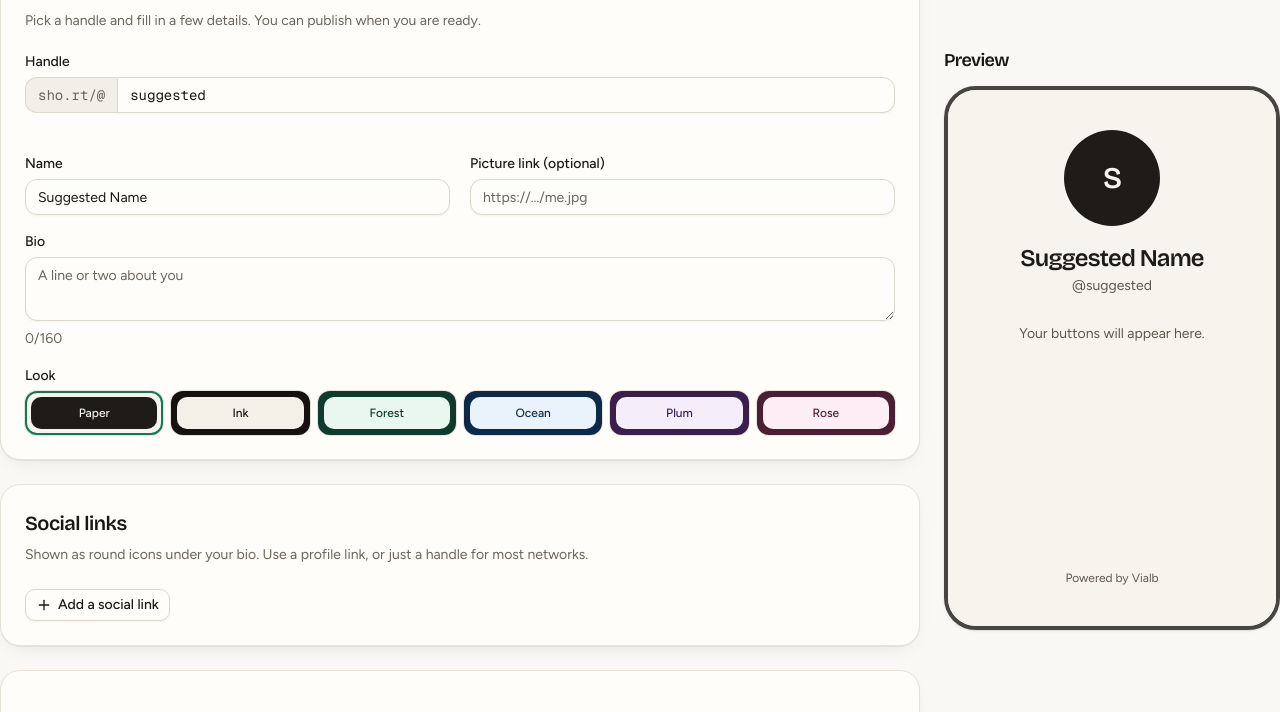
Scenario: BioEditor before a page exists › explains a bad handle instead of sending it
Replace the text in the field labelled "Handle" with "admin": (506, 95) [117,77,895,113]
(page scrolled)
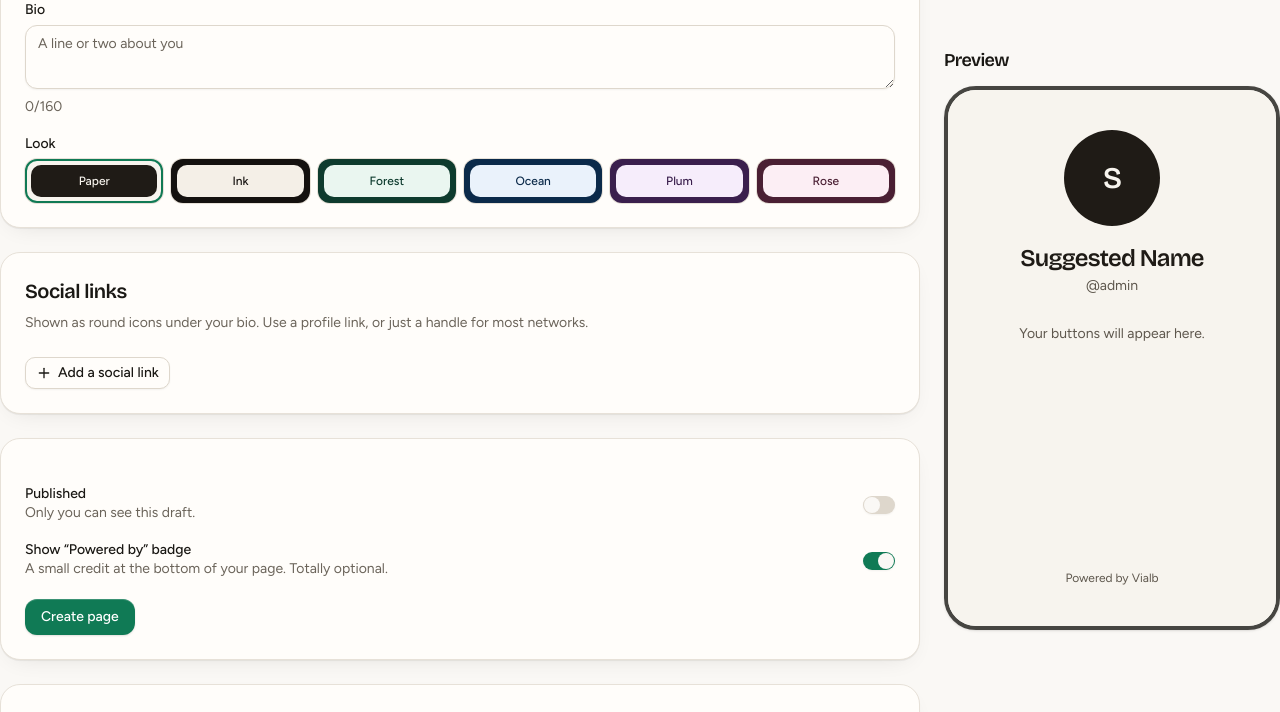
Click the button with test id "bio-save": (80, 617) [25,599,135,635]
(page scrolled)
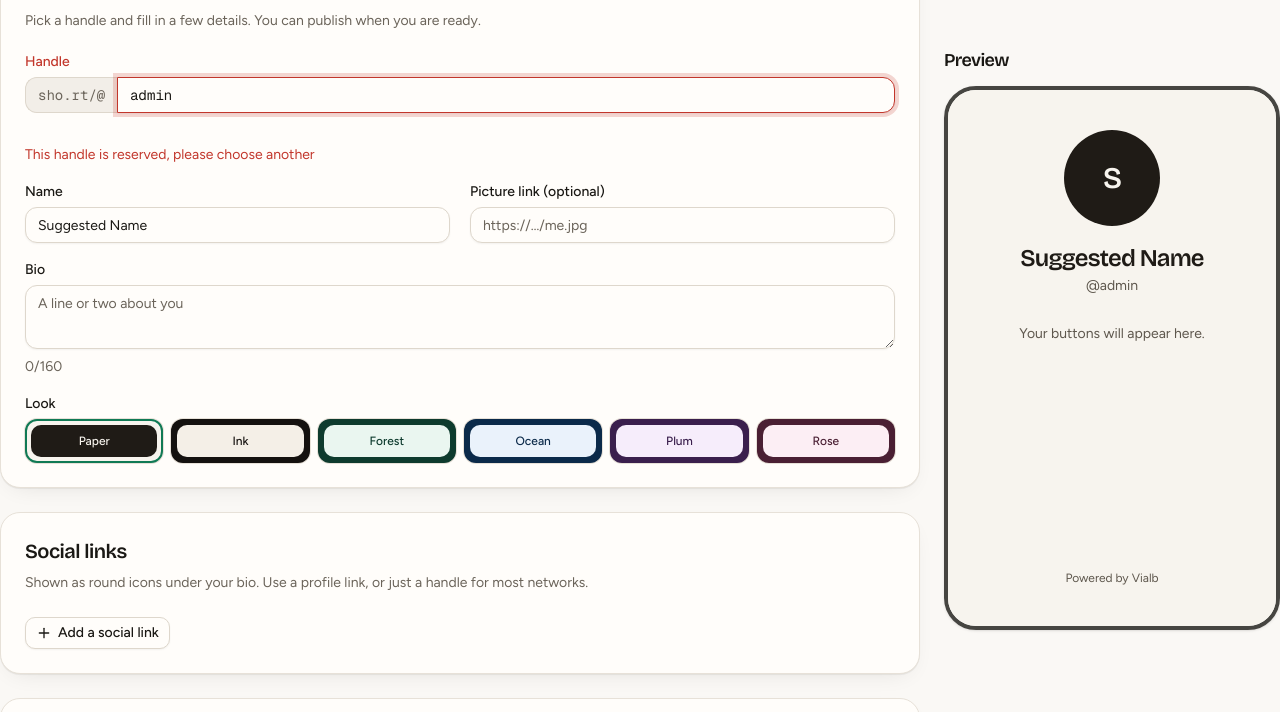
expect the text "This handle is reserved, please choose another" is shown: met, box [25,146,315,163]
